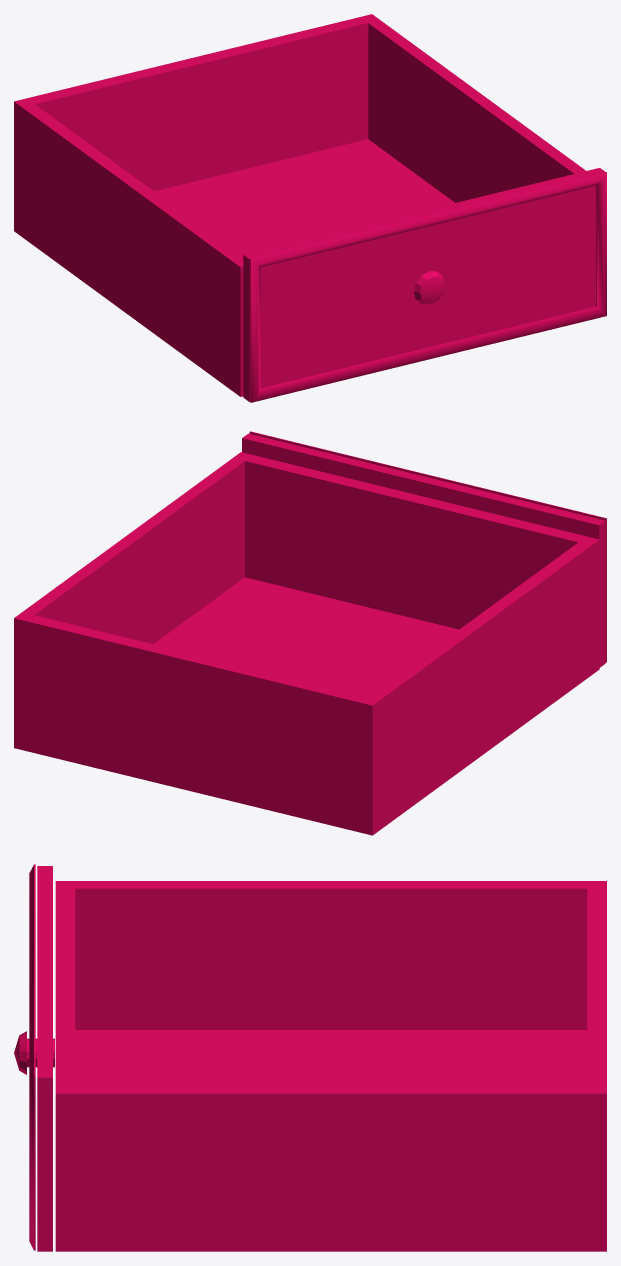
File: Kitchen_Cupboard_10_Drawer.fbx
3 views of the same model, one above another, from view 1: azimuth 30°, elevation 25°; view 2: azimuth 150°, elevation 25°; view 3: azimuth 270°, elevation 25° (orthographic). The views are drawn at different scales.
Visible parts, largest first — view 1: Kitchen_Cupboard_10_Drawer; view 2: Kitchen_Cupboard_10_Drawer; view 3: Kitchen_Cupboard_10_Drawer.
Boxes of the visible parts, bbox=[...] form: Kitchen_Cupboard_10_Drawer: bbox=[14, 14, 606, 402]; Kitchen_Cupboard_10_Drawer: bbox=[14, 431, 606, 835]; Kitchen_Cupboard_10_Drawer: bbox=[14, 864, 606, 1251].
Bounding box in the file's own units: 43.68 × 16.79 × 51.48.
